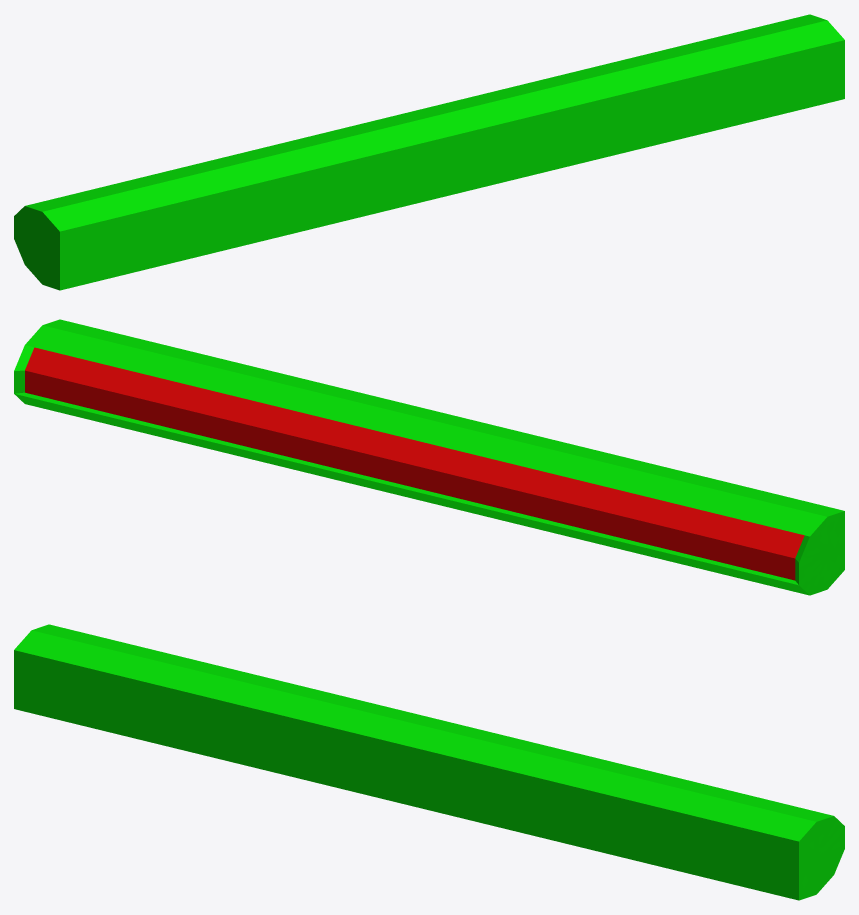
The model's file is WallLight.fbx.
3 renders of one model, top to bottom at view 1: azimuth 30°, elevation 25°; view 2: azimuth 150°, elevation 25°; view 3: azimuth 330°, elevation 25°, orthographic.
Parts seen in each view (by area): view 1: pCylinder4; view 2: pCylinder4; view 3: pCylinder4.
Boxes of the visible parts, x1,y1,x2,y2 form: pCylinder4: [14, 14, 844, 290]; pCylinder4: [14, 319, 844, 595]; pCylinder4: [14, 624, 844, 900].
Bounding box in the file's own units: 166 × 14.76 × 16.85.
